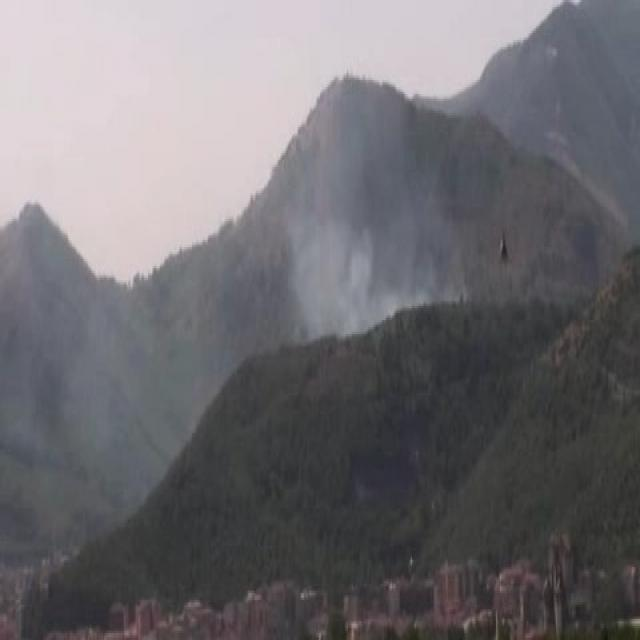smoke: (284, 150, 437, 346)
